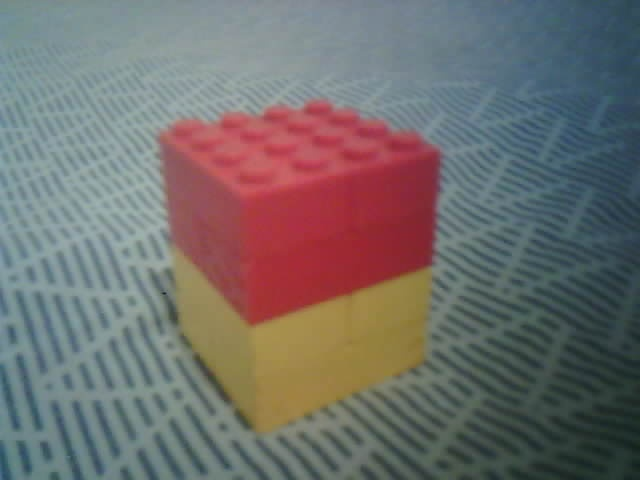lego: (153, 99, 446, 433)
